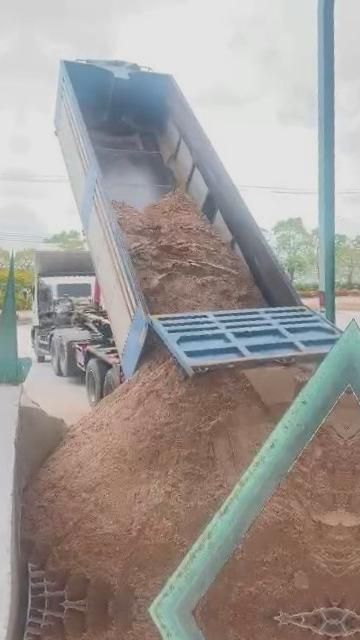sand: (23, 343, 276, 609), (199, 428, 345, 617), (116, 192, 264, 311), (19, 397, 64, 473), (246, 363, 316, 408), (329, 391, 348, 439)
